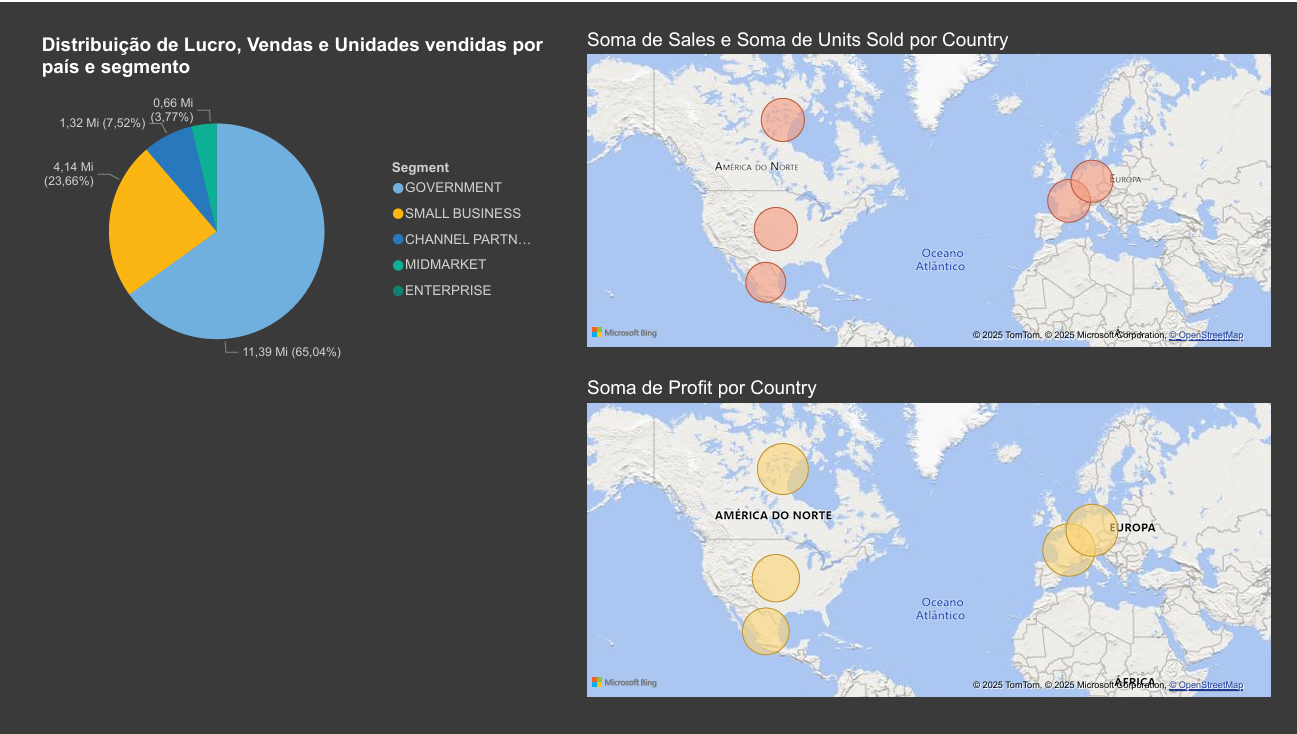

This screenshot's page, from the dashboard's own definition file:
{"tool":"powerbi","page":{"name":"Página 3","canvas":[1280,720],"ordinal":2},"visuals":[{"type":"pieChart","fields":{"Category":["financials.Segment"],"Y":["Sum(financials.Profit)"]},"box":[35.9,39.5,502.7,350.1],"z":0},{"type":"map","fields":{"Category":["financials.Country"],"Size":["Sum(financials.Profit)"]},"box":[572.8,369,683.2,319.6],"z":1000},{"type":"map","fields":{"Category":["financials.Country"],"Size":["Sum(financials.Sales)"]},"box":[572.8,26,683.2,318.7],"z":2000},{"type":"textbox","box":[36,390,503,299],"z":2001},{"type":"textbox","box":[35.9,26,536.9,60.1],"z":2002}]}

Visuals, with their boxes in screenshot pixels (x1, y1, x2, y2), scaled from the page's 1280x720 canvas onto the 1297x734 screenshot:
pieChart - financials.Segment x Sum(financials.Profit): box=[36, 40, 546, 397]
map - financials.Country x Sum(financials.Profit): box=[580, 376, 1273, 702]
map - financials.Country x Sum(financials.Sales): box=[580, 27, 1273, 351]
textbox: box=[36, 398, 546, 702]
textbox: box=[36, 27, 580, 88]
